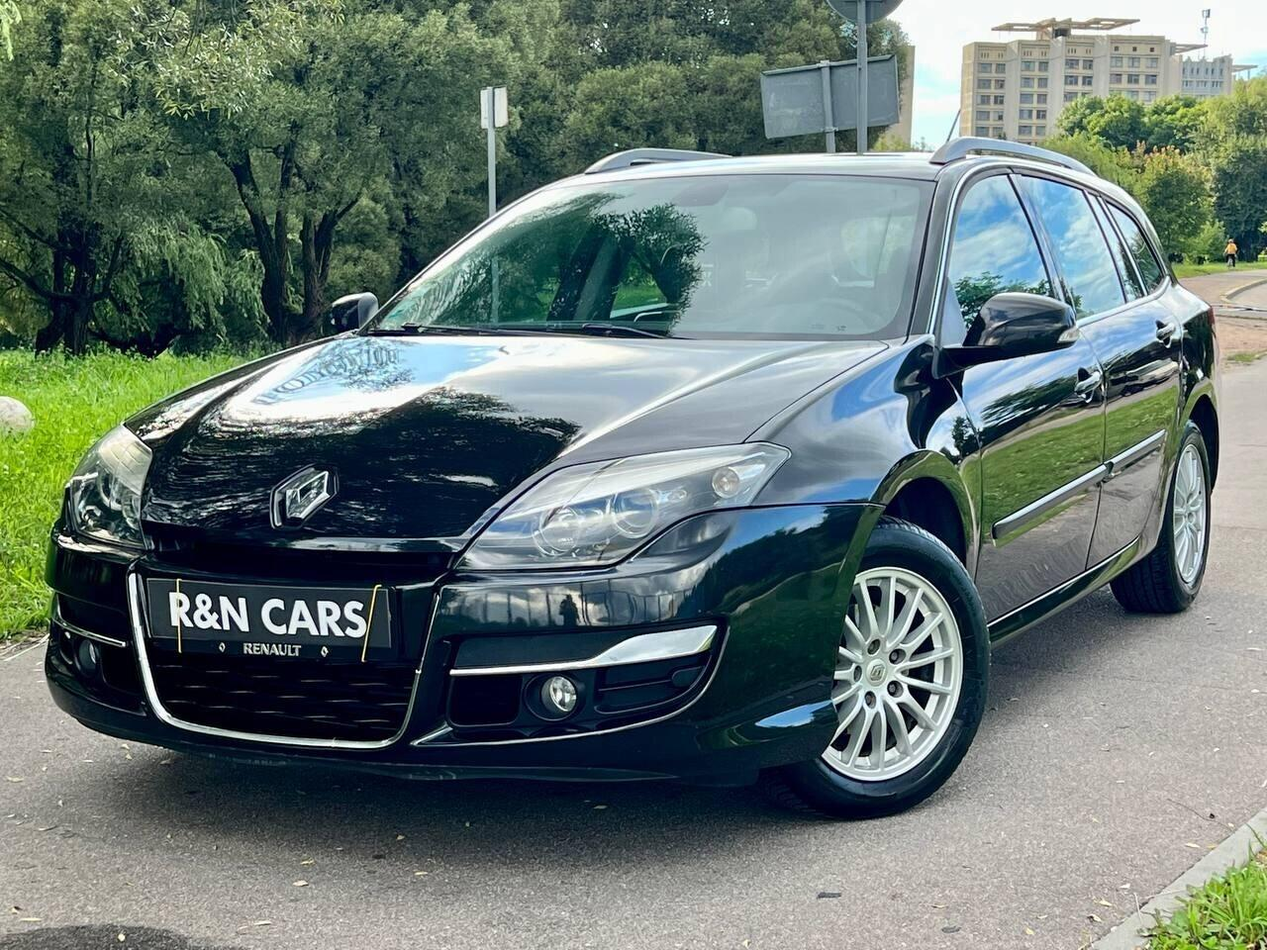Laguna_2010-2015: (33, 131, 1221, 819)
